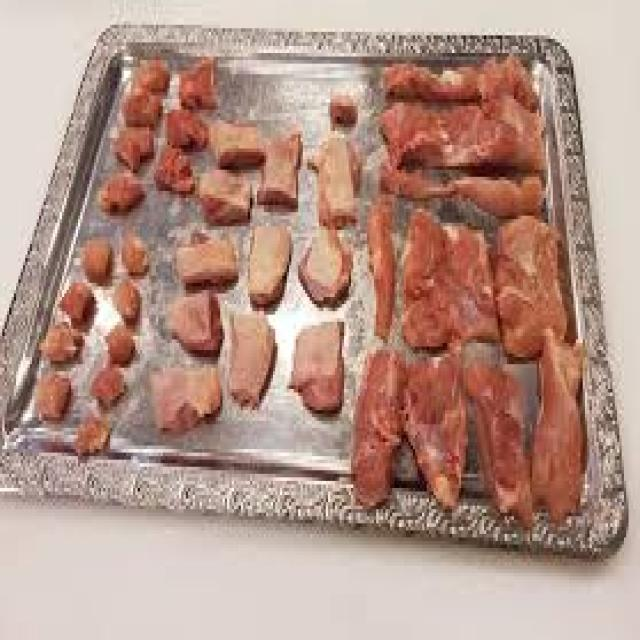Organik: (353, 343, 599, 536), (103, 52, 366, 226), (36, 222, 149, 464), (385, 72, 542, 203)
